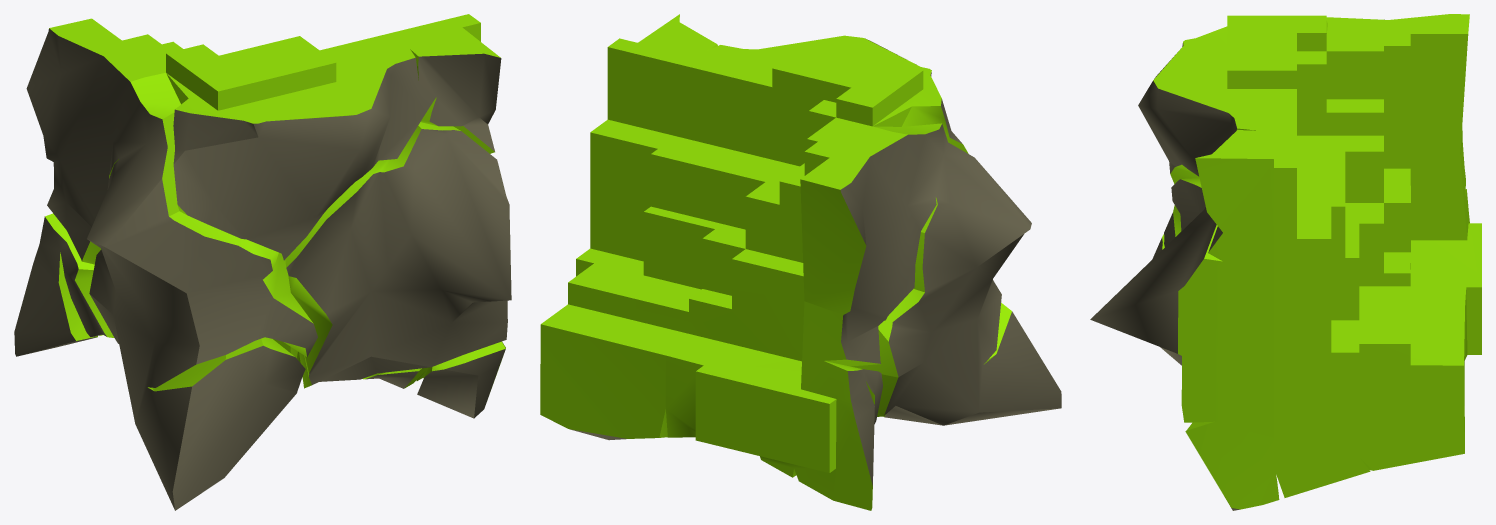
Rendered from obj_harvests_nonepart_tier5_p08.fbx.
3 renders of one model, left to right at view 1: azimuth 30°, elevation 25°; view 2: azimuth 150°, elevation 25°; view 3: azimuth 270°, elevation 25°, orthographic. The views are drawn at different scales.
Visible parts, largest first — view 1: gn_p08.001; view 2: gn_p08.001; view 3: gn_p08.001.
Part boxes in pixels (x1,y1,x2,y2): gn_p08.001: [14, 14, 511, 510]; gn_p08.001: [540, 14, 1061, 510]; gn_p08.001: [1090, 14, 1481, 510].
Bounding box in the file's own units: 10.78 × 9.91 × 9.39.
